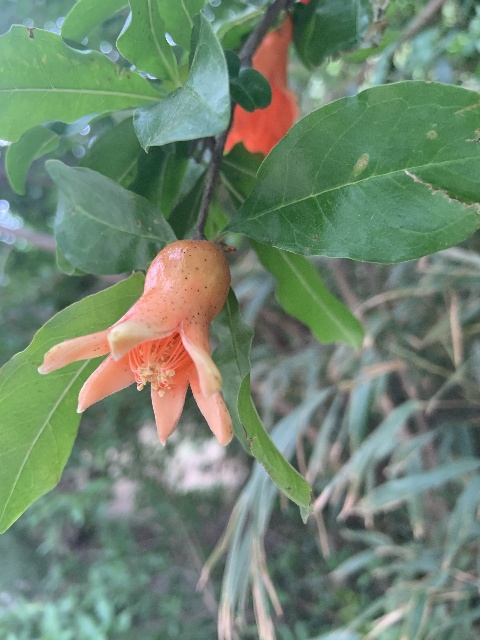early-fruit: (37, 239, 234, 446)
flower: (223, 11, 299, 155)
